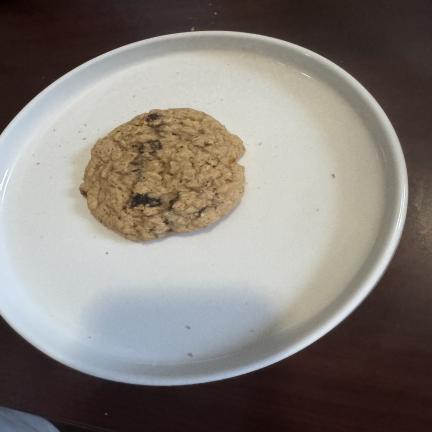cookie: (80, 109, 244, 241)
